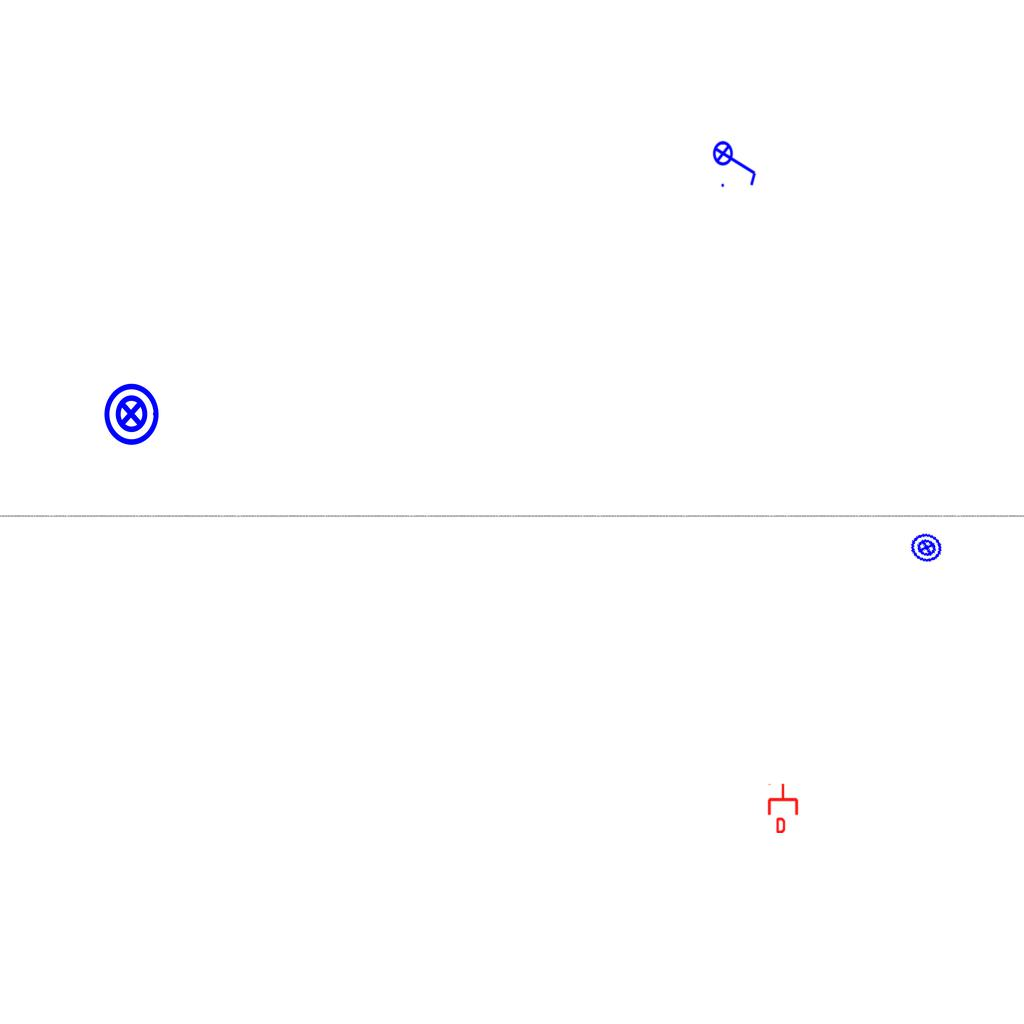Ausschalter_beleuchtet: (712, 134, 760, 190)
Datenanschluss_einfach: (766, 783, 800, 833)
Taster_beleuchtet: (98, 381, 164, 447), (905, 526, 948, 569)
